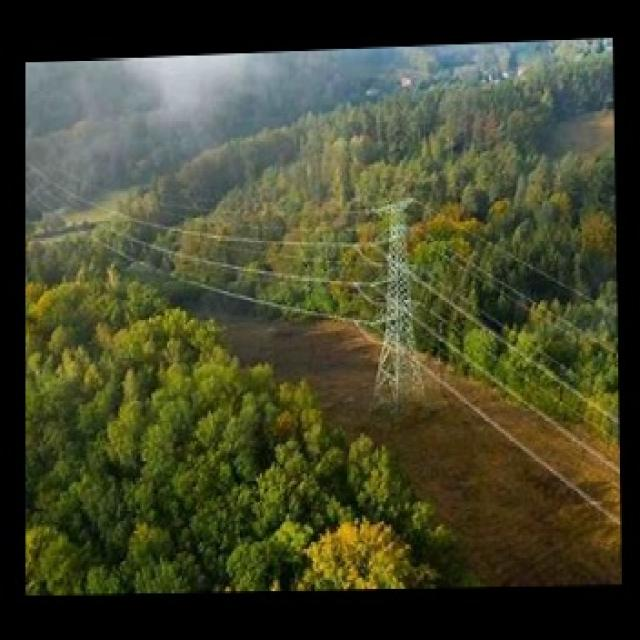utility poles: (314, 159, 480, 467)
